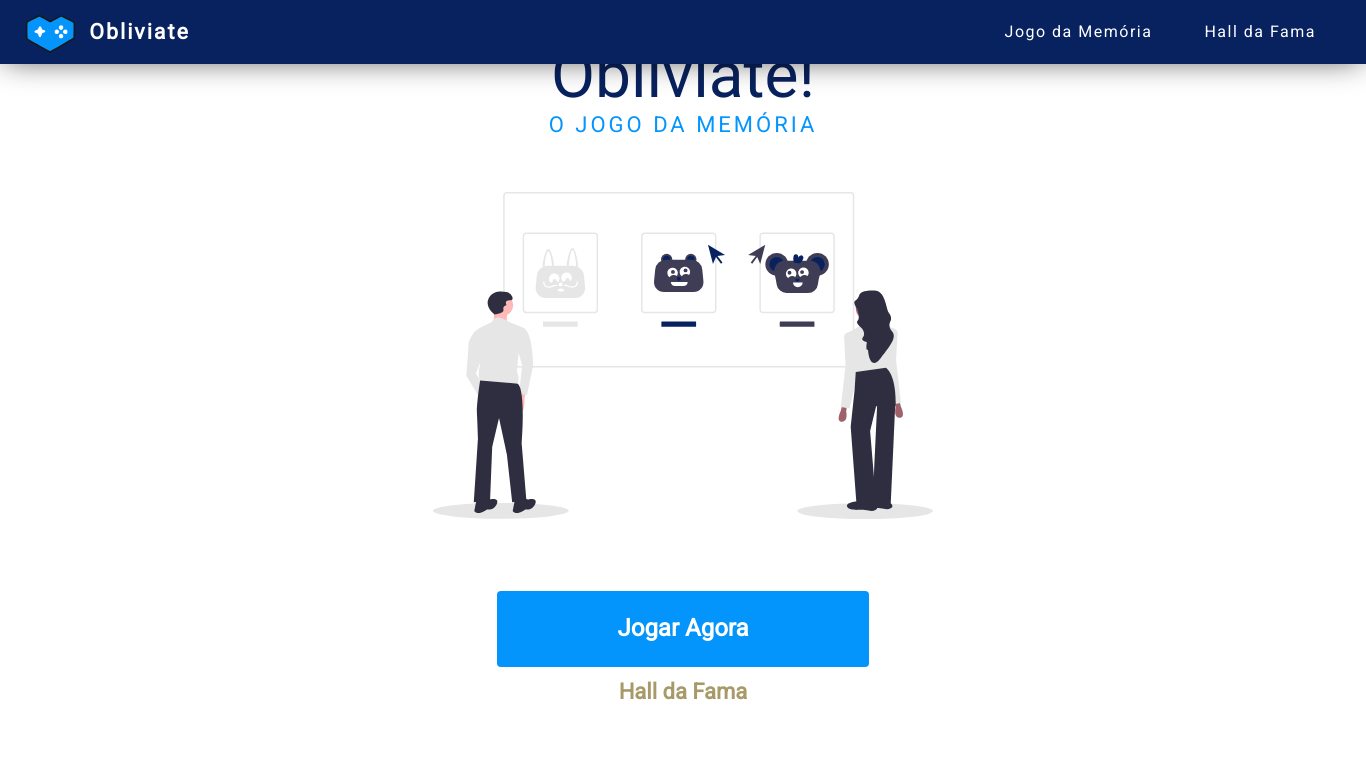
Home Page › Go to Game from click in button
(page scrolled)
Click the link "Jogar Agora".
click(683, 629)  # box [497,591,869,667]
(page scrolled)
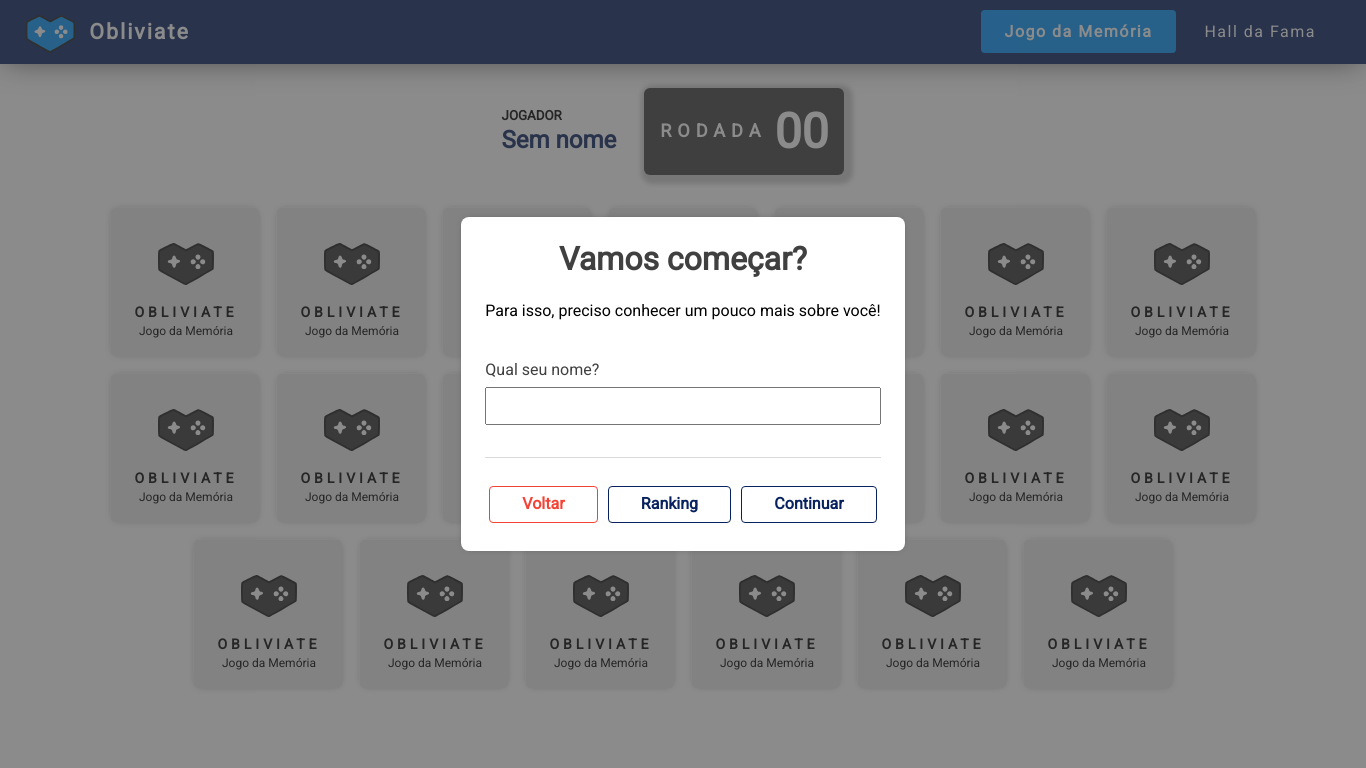
Now the heading "Vamos começar?" is shown, box [559,240,807,278]
